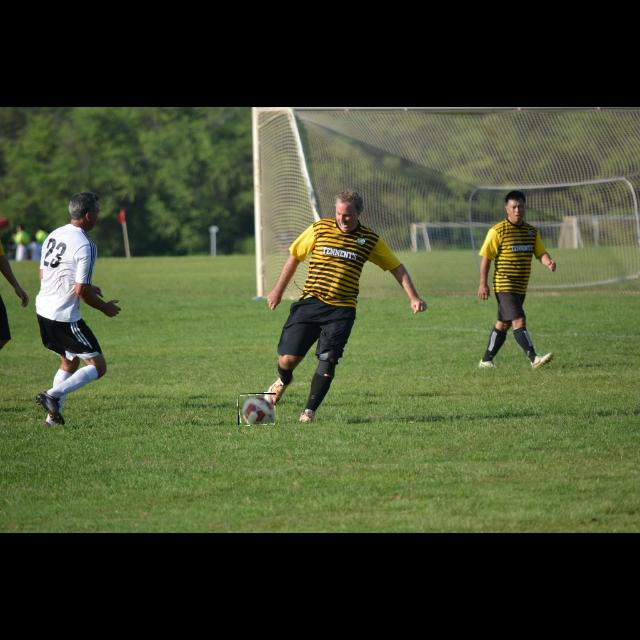Football: (238, 393, 276, 425)
